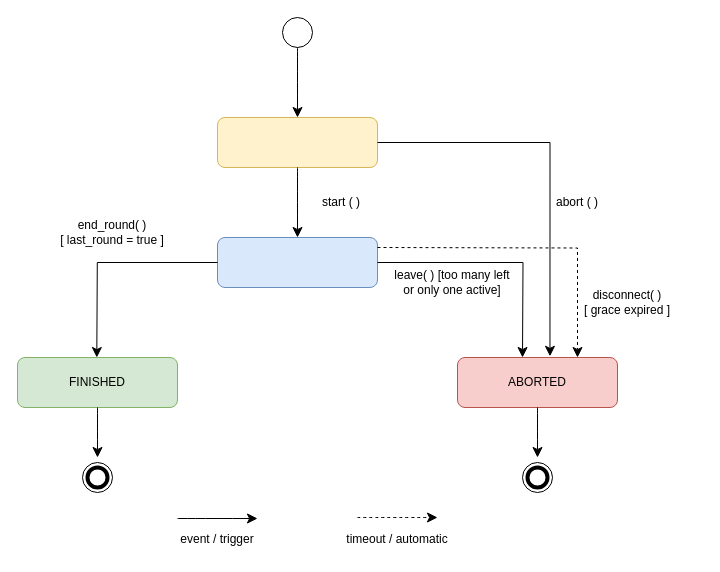
Image size: 720x572. Some labels were removed from this diagram. Here are the shapes that lost their labels. From the top down, the centre of each, then its label:
At (x=297, y=142): "WAITING".
At (x=297, y=262): "PLAYING".
